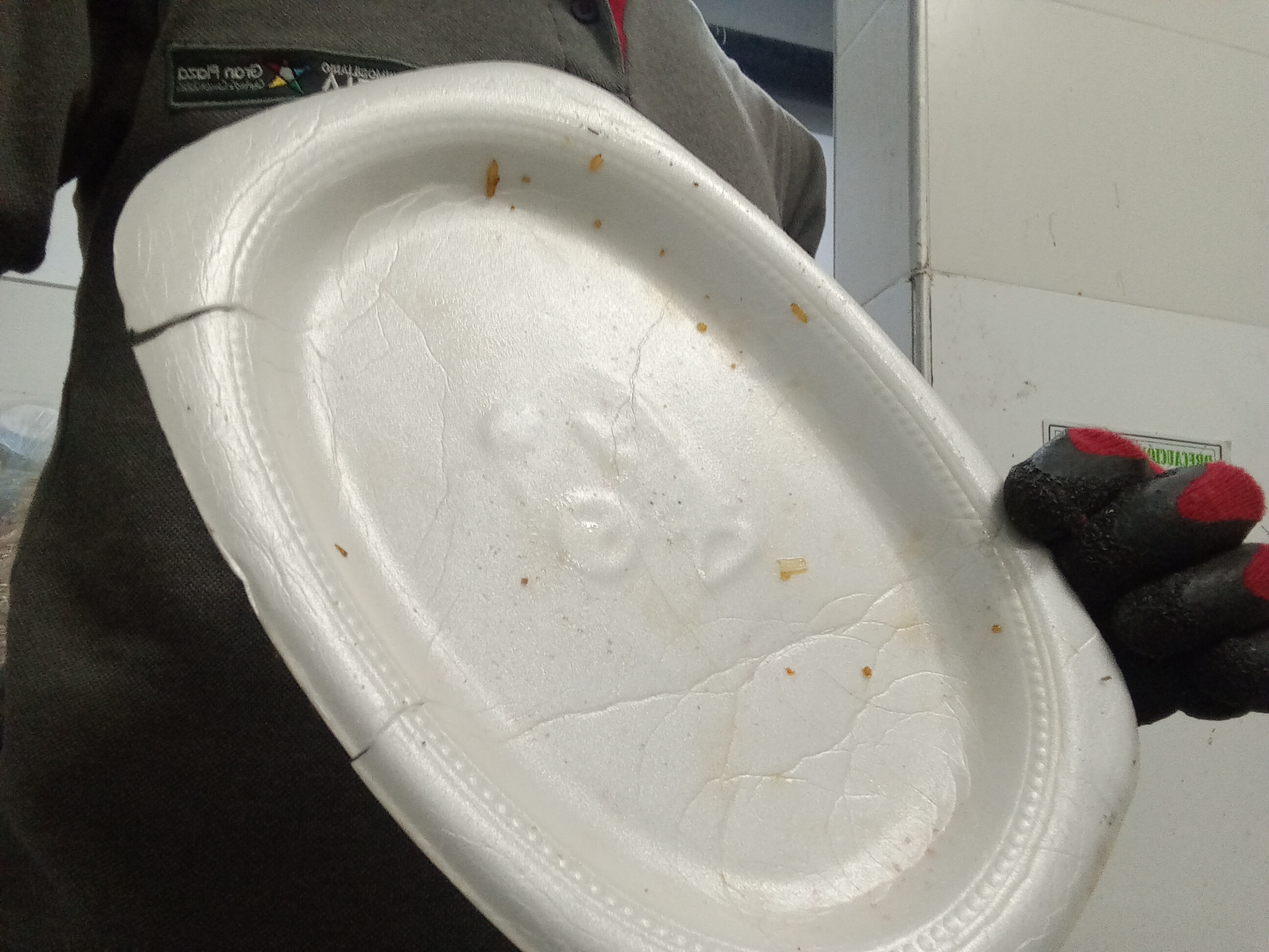Ordinario: (113, 62, 1138, 952)
